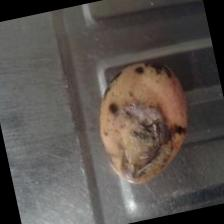Mango Overripe: (84, 50, 204, 191)
